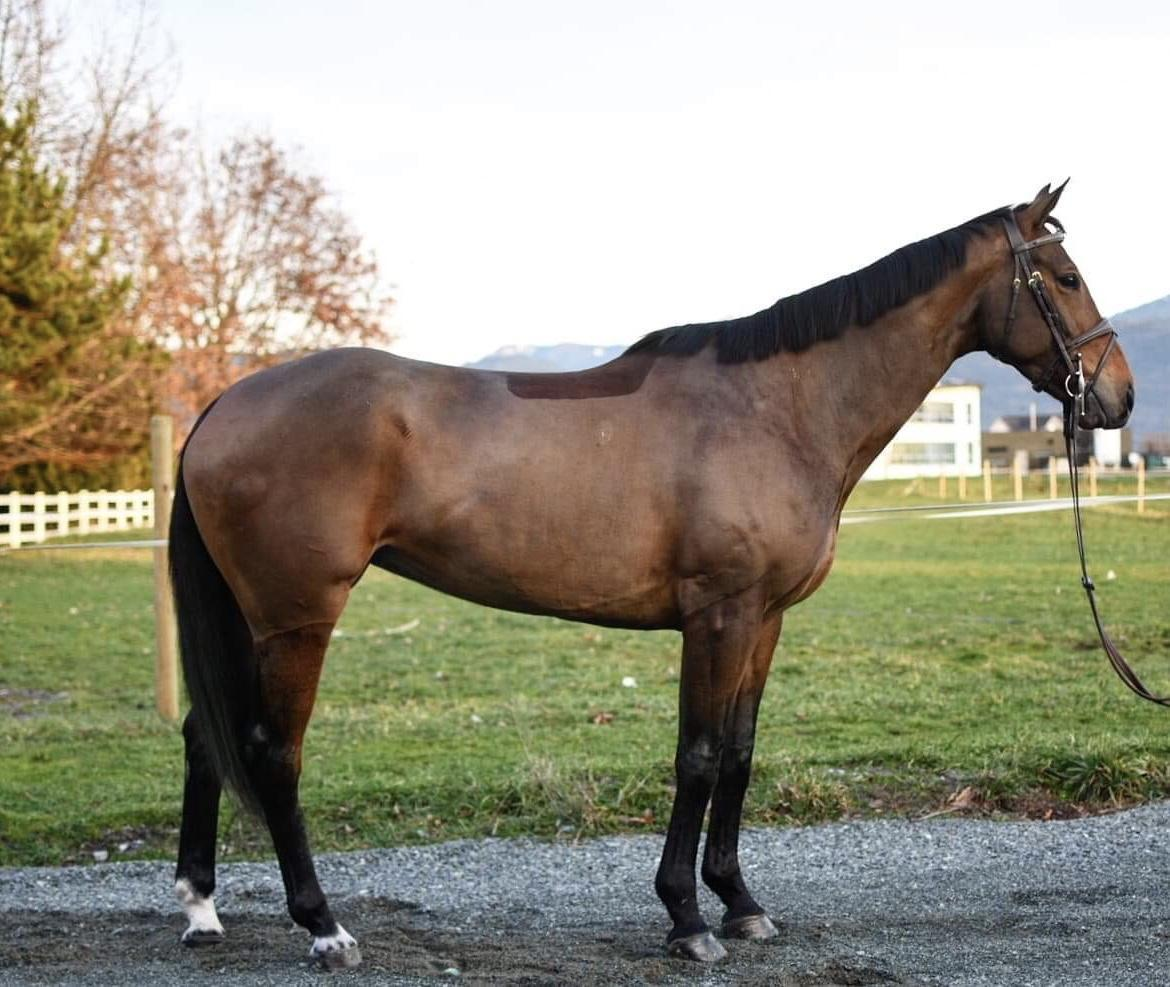horse: (159, 168, 1148, 980)
